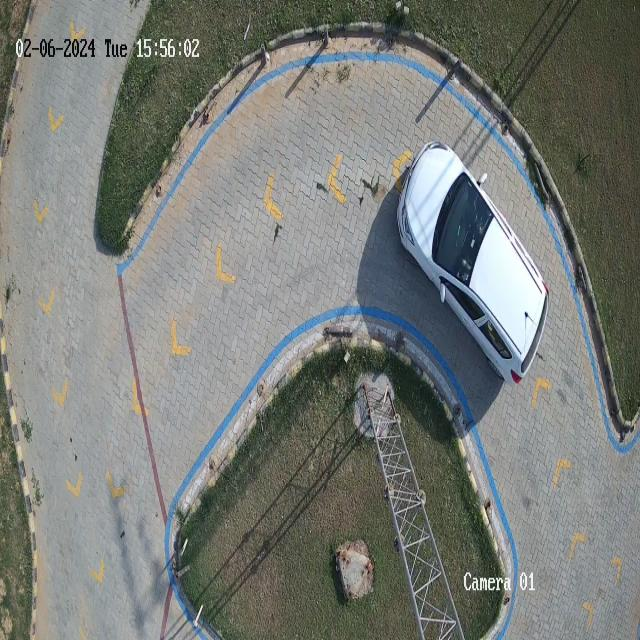car: (398, 142, 549, 382)
